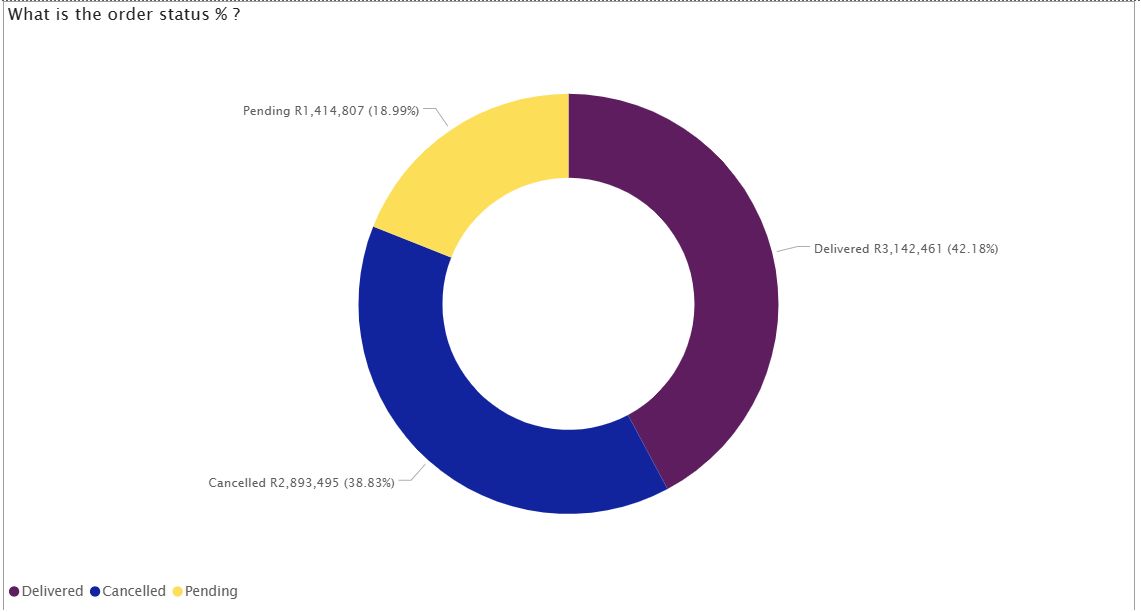

The page's visual inventory and layout, read from the dashboard file:
{"tool":"powerbi","page":{"name":"Order Status for our products","canvas":[1280,720],"ordinal":3},"visuals":[{"type":"donutChart","title":"What is the order status % ?","fields":{"Y":["My Measures.Total Sales"],"Category":["eCommerceData.Group Status"],"Series":["eCommerceData.Group Status"]},"box":[10,0,677.4,596.6],"z":0}]}

Visuals, with their boxes on the page's 1280x720 design canvas (x1, y1, x2, y2). These are canvas units, not pixel positions in the 1141x612 screenshot, which may show the page scaled, cropped or inside an application window:
"What is the order status % ?" donutChart: detection(10, 0, 687, 597)
